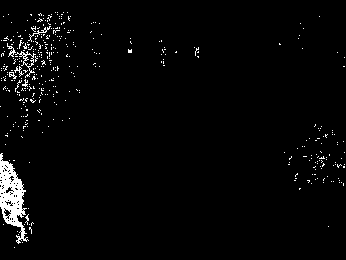person: (1, 154, 32, 244)
